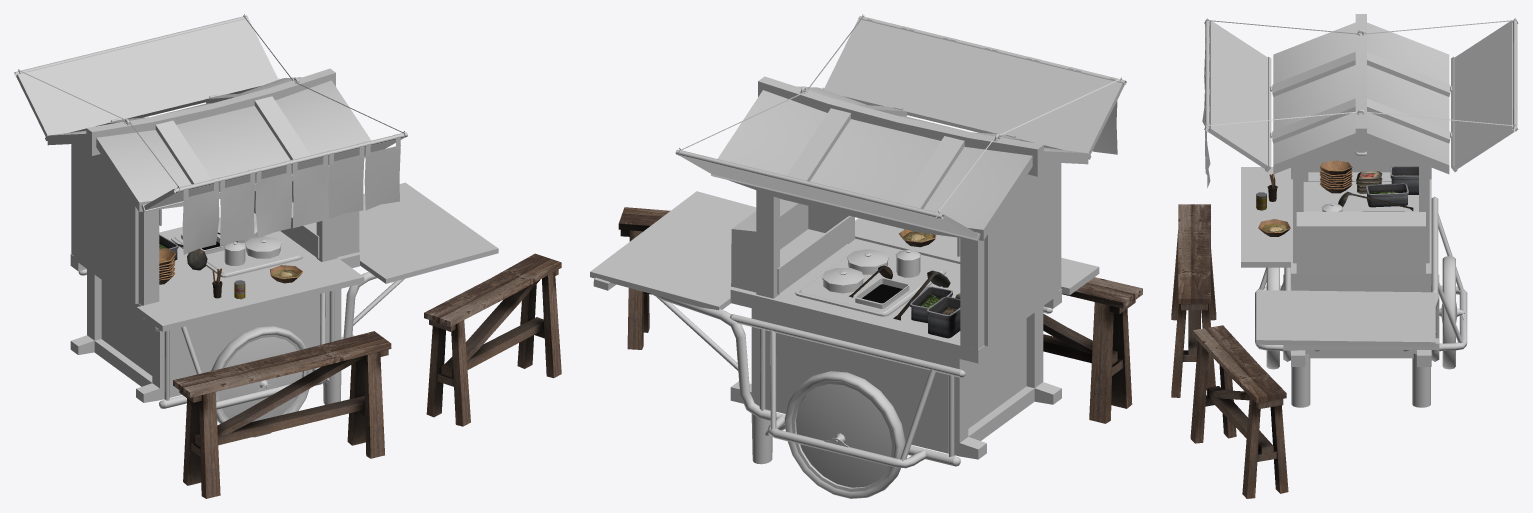
3 views of the same model, side by side, from view 1: azimuth 30°, elevation 25°; view 2: azimuth 150°, elevation 25°; view 3: azimuth 270°, elevation 25° (orthographic). The views are drawn at different scales.
Visible parts, largest first — view 1: SM_Yatai, SM_Yatai-bench, SM_yatai-bench2, SM_yatai-props; view 2: SM_Yatai, SM_Yatai-bench, SM_yatai-props, SM_yatai-bench2; view 3: SM_Yatai, SM_yatai-bench2, SM_Yatai-bench, SM_yatai-props.
Part boxes in pixels (bbox=[...]): SM_Yatai: bbox=[14, 14, 498, 437]; SM_Yatai-bench: bbox=[173, 331, 391, 498]; SM_yatai-bench2: bbox=[424, 253, 561, 426]; SM_yatai-props: bbox=[159, 232, 302, 299]; SM_Yatai: bbox=[590, 14, 1126, 498]; SM_Yatai-bench: bbox=[1043, 277, 1142, 423]; SM_yatai-props: bbox=[849, 229, 960, 338]; SM_yatai-bench2: bbox=[618, 207, 670, 349]; SM_Yatai: bbox=[1202, 14, 1518, 407]; SM_yatai-bench2: bbox=[1190, 325, 1288, 498]; SM_Yatai-bench: bbox=[1171, 204, 1216, 397]; SM_yatai-props: bbox=[1256, 160, 1418, 236].
Size of the model in its own units: 818 by 567 by 610.
